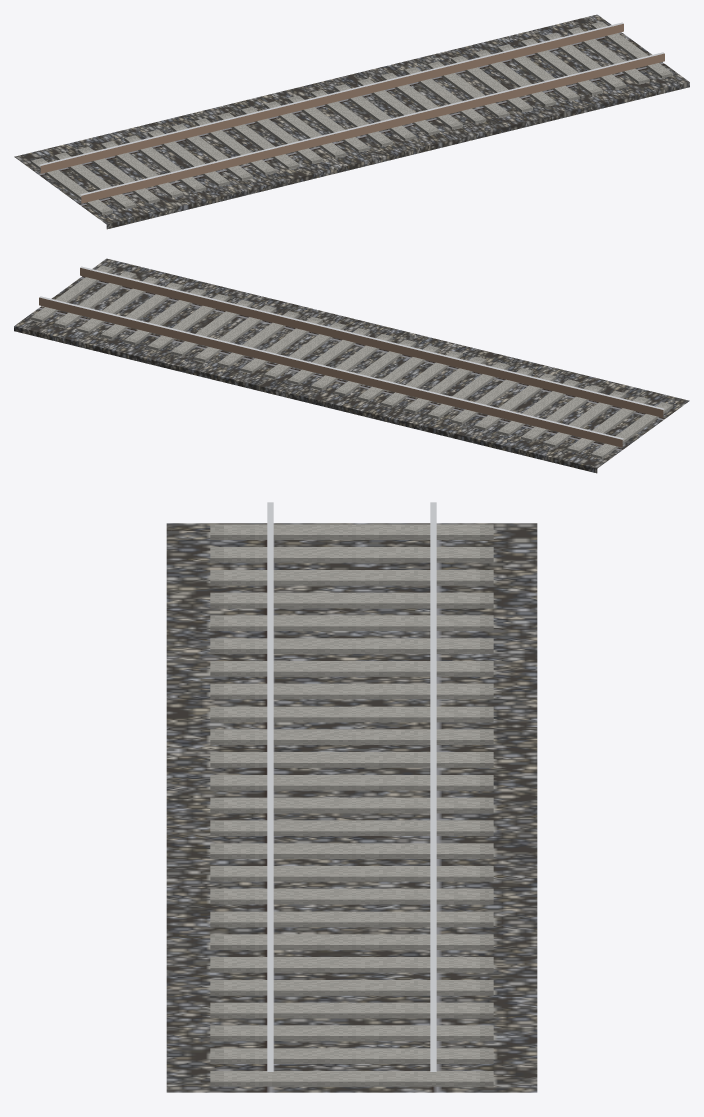
Rendered from kolej_rovna_beton_siroka.glb.
The picture shows the model from 3 angles, top to bottom: view 1: azimuth 30°, elevation 25°; view 2: azimuth 150°, elevation 25°; view 3: azimuth 270°, elevation 25°; orthographic projection. The views are drawn at different scales.
Parts seen in each view (by area): view 1: kolej_rovna_beton_siroka; view 2: kolej_rovna_beton_siroka; view 3: kolej_rovna_beton_siroka.
Part boxes in pixels (x1,y1,x2,y2): kolej_rovna_beton_siroka: [14, 14, 689, 229]; kolej_rovna_beton_siroka: [14, 258, 689, 473]; kolej_rovna_beton_siroka: [166, 502, 537, 1092].
Bounding box in the file's own units: 14.84 × 0.373 × 4.08.
4 materials, 2 textured.
